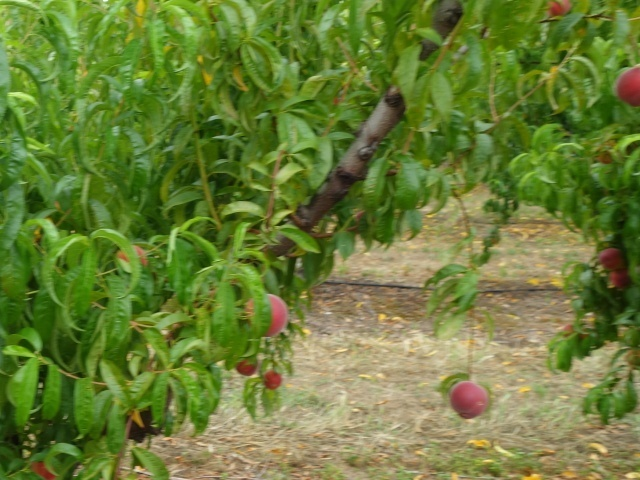peach: (241, 292, 293, 340), (445, 377, 490, 423), (612, 59, 639, 112), (116, 241, 152, 273), (595, 243, 626, 274), (605, 264, 634, 292), (232, 351, 259, 381), (259, 367, 284, 395)
